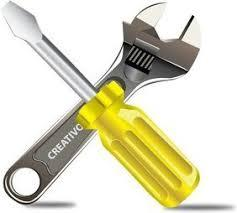screwdriver: (1, 0, 98, 98)
